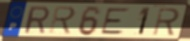1: (137, 7, 152, 38)
6: (77, 5, 103, 37)
E: (99, 7, 132, 36)
R: (151, 7, 181, 37), (48, 6, 77, 36), (23, 6, 51, 35)
